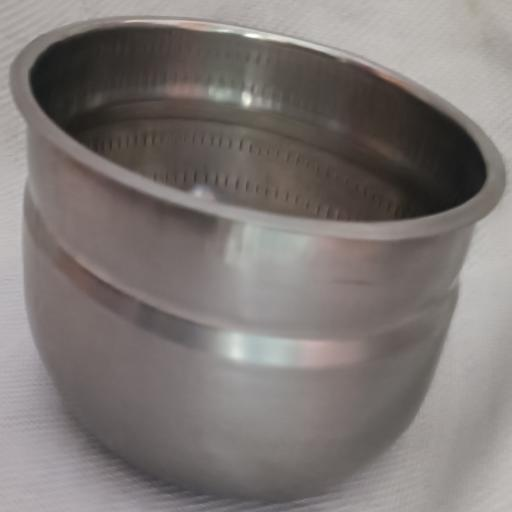vessel: (10, 17, 505, 501)
